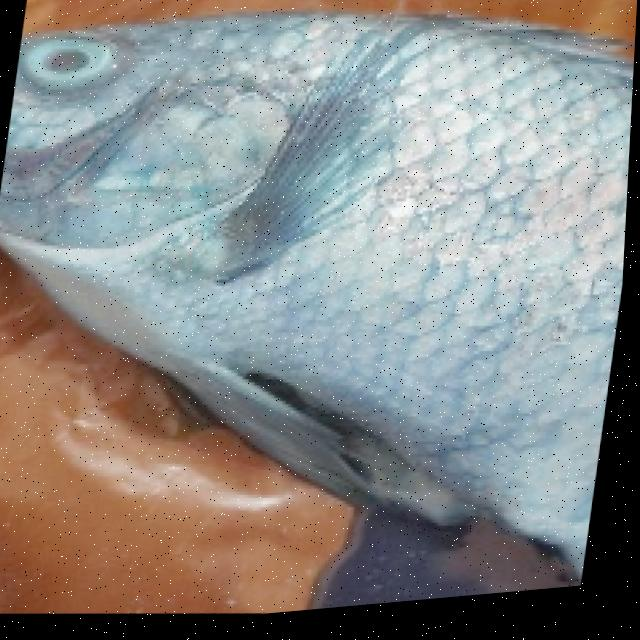Non-Fresh: (143, 6, 638, 495), (16, 12, 144, 133)
